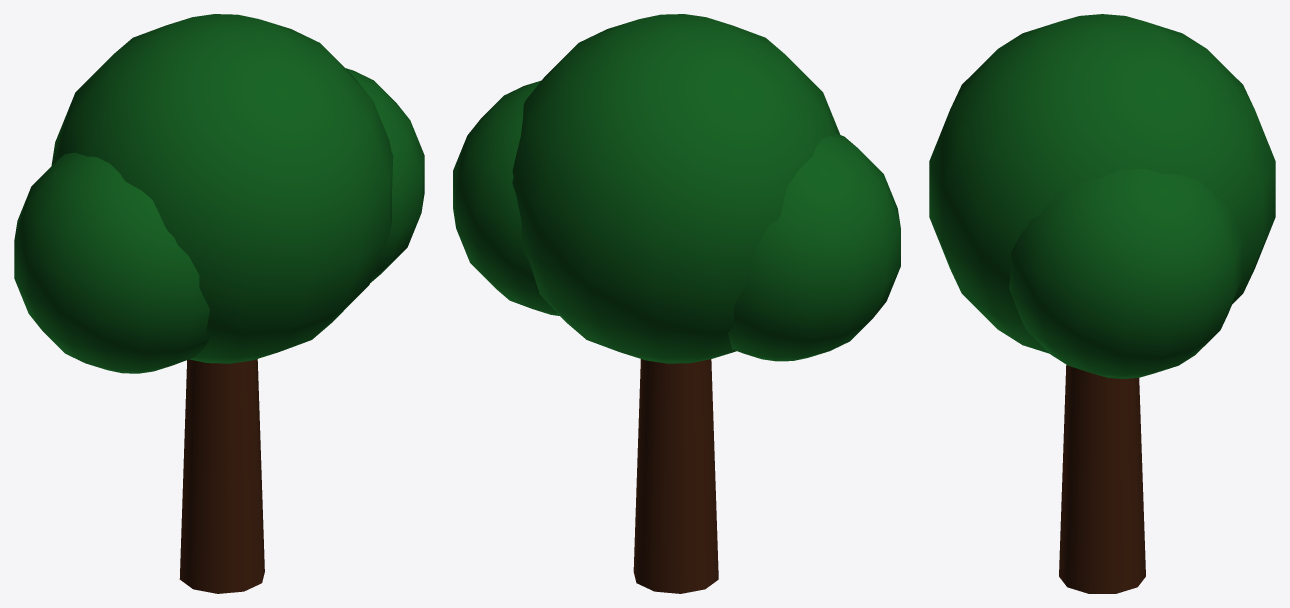
Rendered from course_tree.glb.
3 renders of one model, left to right at view 1: azimuth 30°, elevation 25°; view 2: azimuth 150°, elevation 25°; view 3: azimuth 270°, elevation 25°, orthographic.
Visible parts, largest first — view 1: Crown, CrownLeft, Trunk, CrownRight; view 2: Crown, CrownLeft, Trunk, CrownRight; view 3: Crown, CrownRight, Trunk.
Boxes of the visible parts, box(x1,y1,x2,y2) form: Crown: box(51, 14, 393, 363); CrownLeft: box(14, 152, 210, 373); Trunk: box(179, 359, 264, 593); CrownRight: box(345, 68, 424, 282); Crown: box(512, 14, 840, 363); CrownLeft: box(728, 133, 900, 361); Trunk: box(633, 359, 718, 593); CrownRight: box(453, 80, 559, 315); Crown: box(929, 14, 1275, 353); CrownRight: box(1009, 168, 1242, 378); Trunk: box(1059, 365, 1145, 593).
Size of the model in its own units: 5.51 by 7.2 by 4.14.
